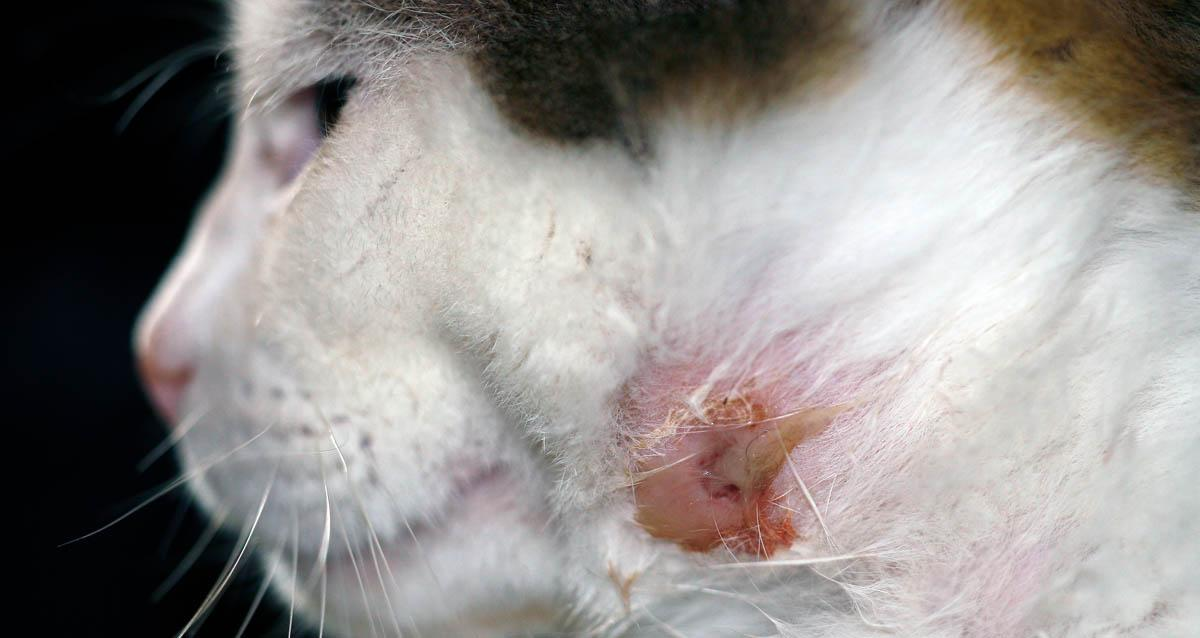lump_and_bump: (619, 365, 793, 561)
